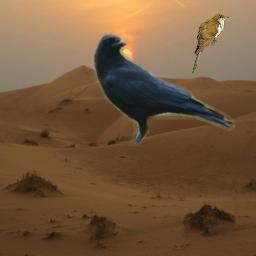Crow: (94, 31, 235, 146)
Cuckoo: (192, 13, 229, 75)
